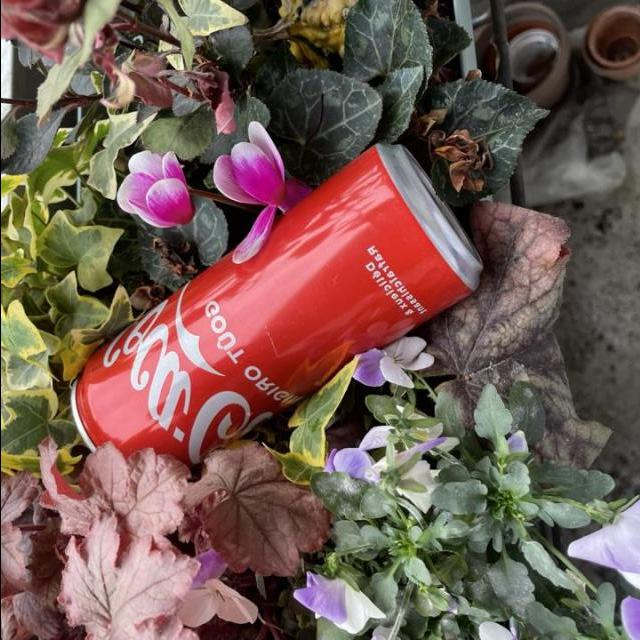can: (66, 136, 495, 473)
